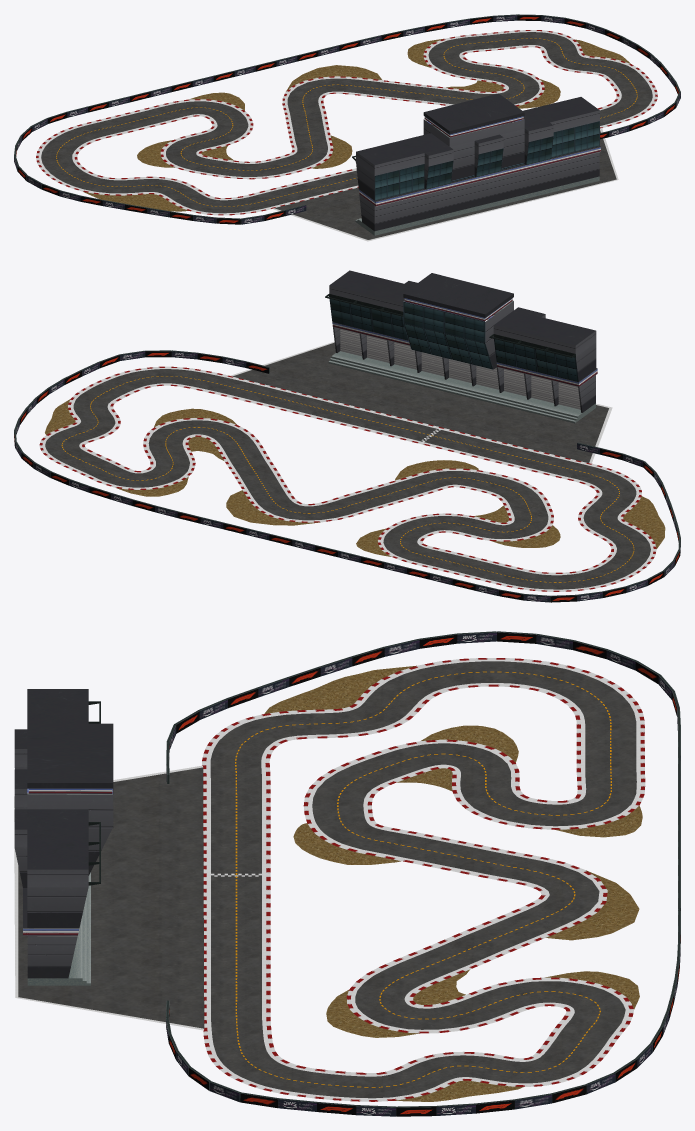
File: Spain_track.dae
3 views of the same model, one above another, from view 1: azimuth 30°, elevation 25°; view 2: azimuth 150°, elevation 25°; view 3: azimuth 270°, elevation 25° (orthographic). The views are drawn at different scales.
Visible parts, largest first — view 1: track, pit_stop, barrier, track_white_border, track_red_border, Gravel, pit_base, centerline; view 2: track, pit_stop, pit_base, barrier, track_white_border, track_red_border, Gravel, centerline; view 3: track, pit_base, pit_stop, track_white_border, track_red_border, Gravel, barrier, centerline.
Boxes of the visible parts, x1,y1,x2,y2 form: track: (41, 32, 652, 213); pit_stop: (352, 93, 600, 235); barrier: (14, 14, 680, 224); track_white_border: (38, 31, 655, 241); track_red_border: (36, 30, 657, 215); Gravel: (83, 38, 630, 211); pit_base: (274, 130, 616, 239); centerline: (56, 38, 637, 206); track: (45, 369, 650, 589); pit_stop: (325, 270, 597, 423); pit_base: (232, 342, 608, 463); barrier: (14, 350, 680, 602); track_white_border: (42, 341, 653, 590); track_red_border: (39, 366, 656, 591); Gravel: (45, 399, 665, 556); centerline: (61, 376, 634, 582); track: (210, 661, 636, 1098); pit_base: (18, 767, 204, 1028); pit_stop: (14, 689, 113, 985); track_white_border: (14, 659, 640, 1099); track_red_border: (202, 658, 645, 1101); Gravel: (264, 665, 642, 1101); barrier: (166, 631, 680, 1116); centerline: (235, 671, 611, 1087).
Size of what is drawn, in the model's own units: 20.16 by 11.93 by 2.82.
Materials: 7 (7 with a texture image).
